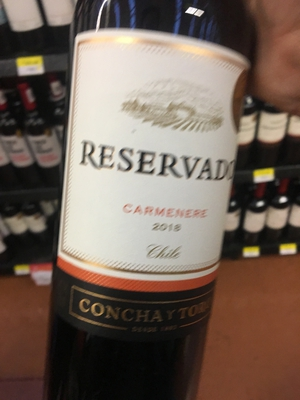reservado carmenere: (52, 12, 255, 382)
